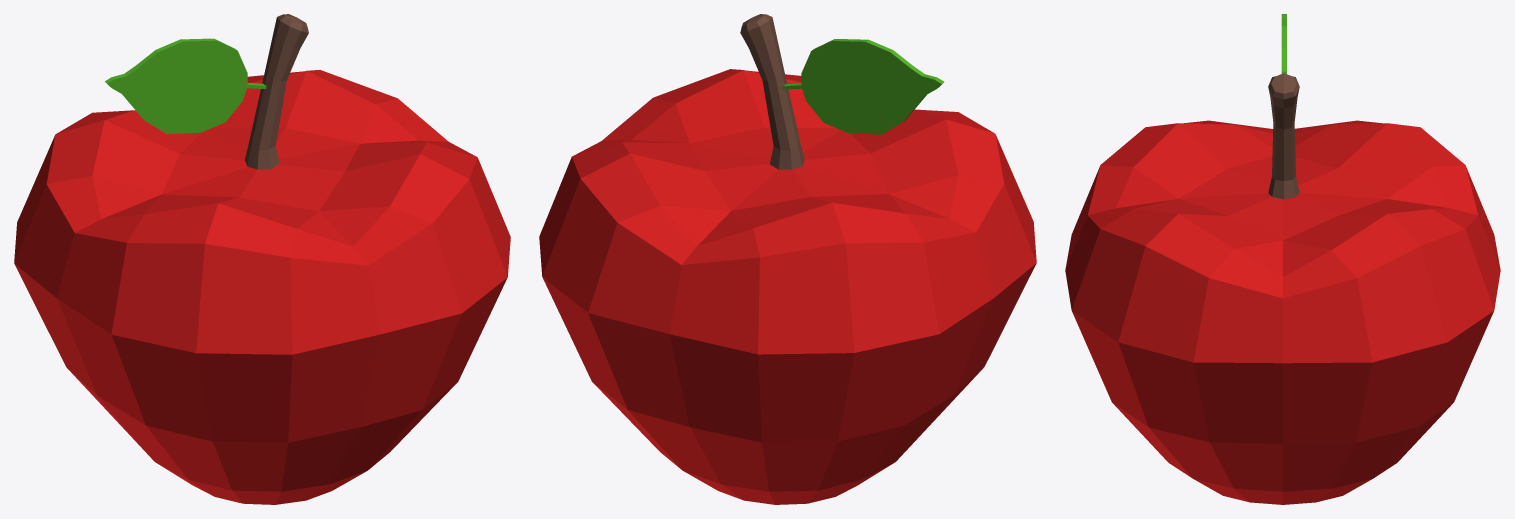
File: Apple.fbx
3 views of the same model, side by side, from view 1: azimuth 30°, elevation 25°; view 2: azimuth 150°, elevation 25°; view 3: azimuth 270°, elevation 25° (orthographic). The views are drawn at different scales.
Parts seen in each view (by area): view 1: Apple; view 2: Apple; view 3: Apple.
Boxes of the visible parts, x1=… form: Apple: x1=14, y1=14, x2=510, y2=504; Apple: x1=539, y1=14, x2=1036, y2=504; Apple: x1=1065, y1=14, x2=1500, y2=504.
Size of the model in its own units: 80.25 by 85.17 by 79.87.
